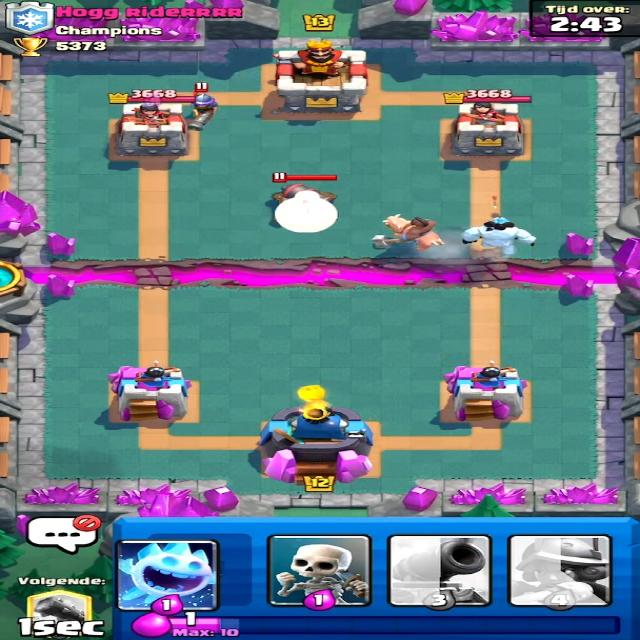Cannon_Card: (387, 536, 492, 604)
Fireball_Troop: (286, 381, 345, 409)
Hog_Rider_Troop: (368, 211, 448, 256)
Ice_Golem_Troop: (456, 213, 542, 256)
Ice_Spirit_Card: (109, 542, 214, 608)
Musketeer_Card: (509, 534, 614, 606)
Skeleton_Card: (268, 538, 373, 606)
